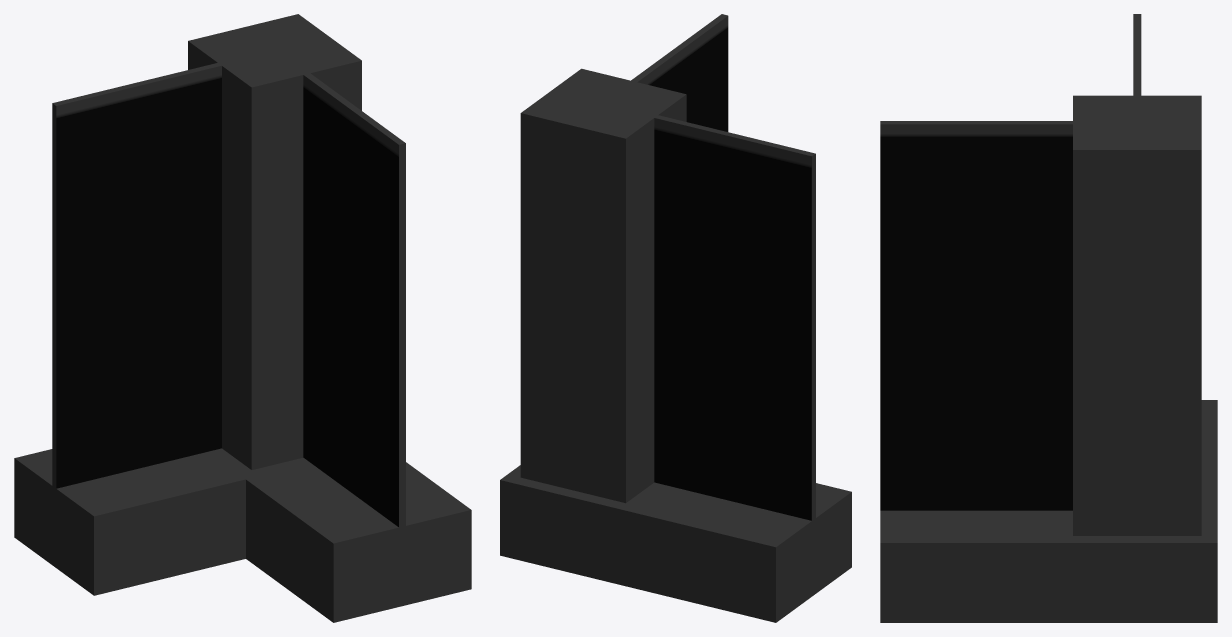
File: nyc_subway_entrance_2_fence_3.obj
3 views of the same model, side by side, from view 1: azimuth 30°, elevation 25°; view 2: azimuth 150°, elevation 25°; view 3: azimuth 270°, elevation 25° (orthographic). The views are drawn at different scales.
Parts seen in each view (by area): view 1: cube; view 2: cube; view 3: cube.
Boxes of the visible parts, x1=… form: cube: x1=14, y1=14, x2=471, y2=622; cube: x1=500, y1=14, x2=851, y2=622; cube: x1=880, y1=14, x2=1217, y2=622.
Bounding box in the file's own units: 0.6562 × 1 × 0.6562.
Materials: 2 (2 with a texture image).
